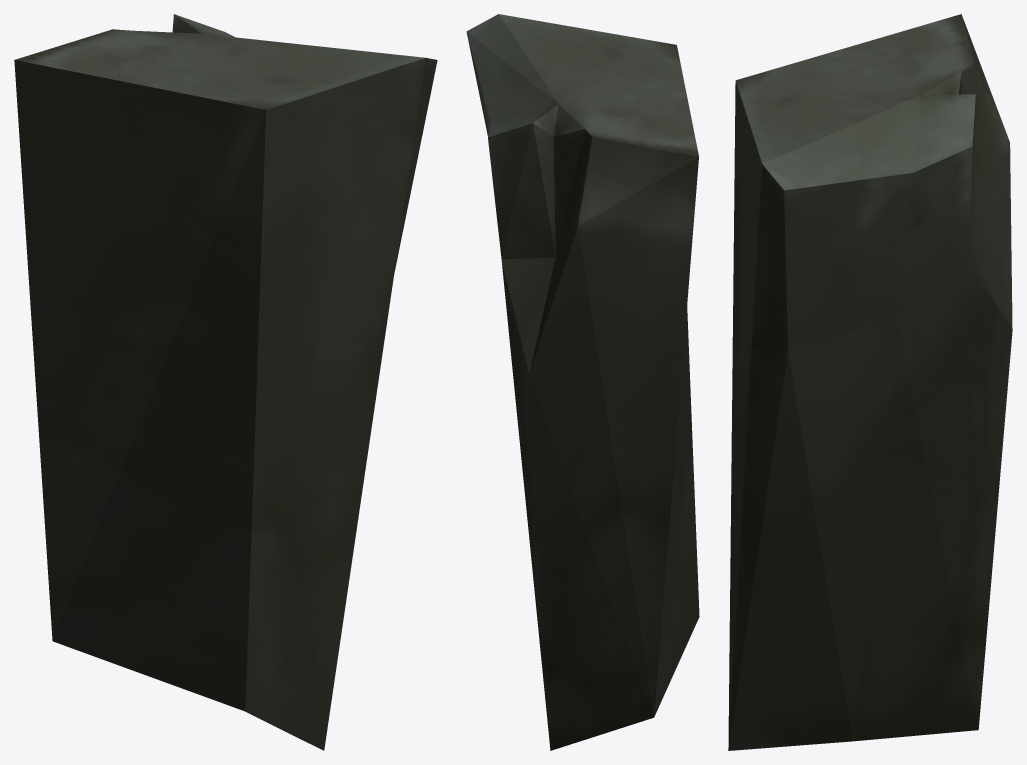
File: yw_newshanlin_stones_002.FBX
3 views of the same model, side by side, from view 1: azimuth 30°, elevation 25°; view 2: azimuth 150°, elevation 25°; view 3: azimuth 270°, elevation 25° (orthographic). The views are drawn at different scales.
Visible parts, largest first — view 1: yw_newshanlin_stones_002; view 2: yw_newshanlin_stones_002; view 3: yw_newshanlin_stones_002.
Part boxes in pixels (left/top/right/bottom): yw_newshanlin_stones_002: left=14, top=14, right=437, bottom=750; yw_newshanlin_stones_002: left=466, top=14, right=699, bottom=750; yw_newshanlin_stones_002: left=728, top=14, right=1012, bottom=750.
Size of the model in its own units: 1.93 by 3.6 by 1.44.
